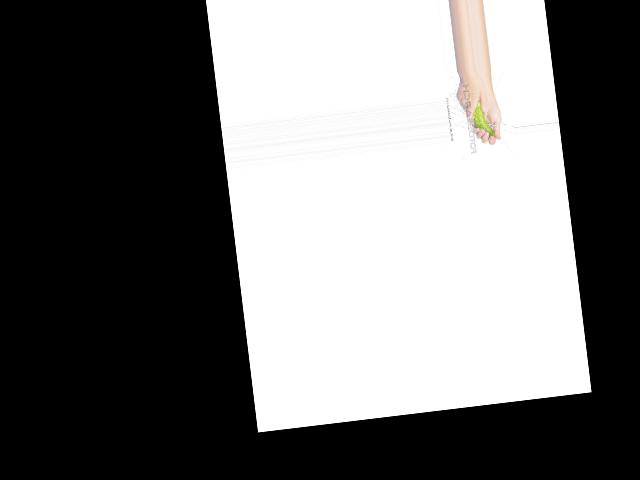cucumber: (470, 97, 494, 139)
